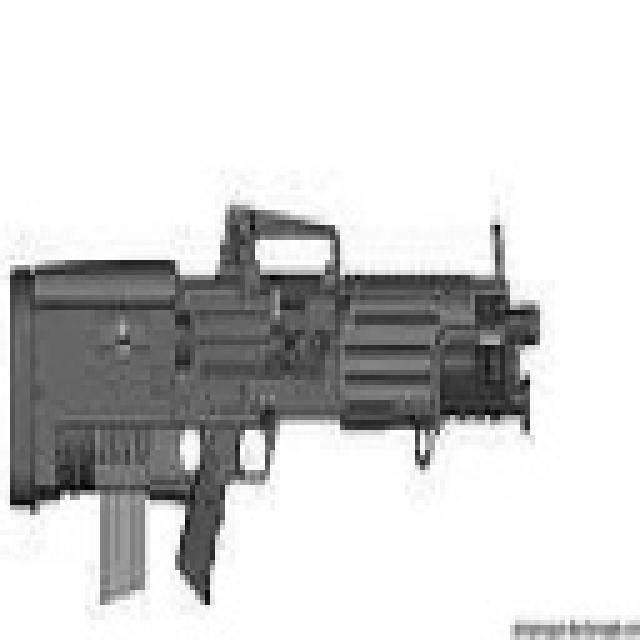Rifle: (0, 180, 545, 615)
